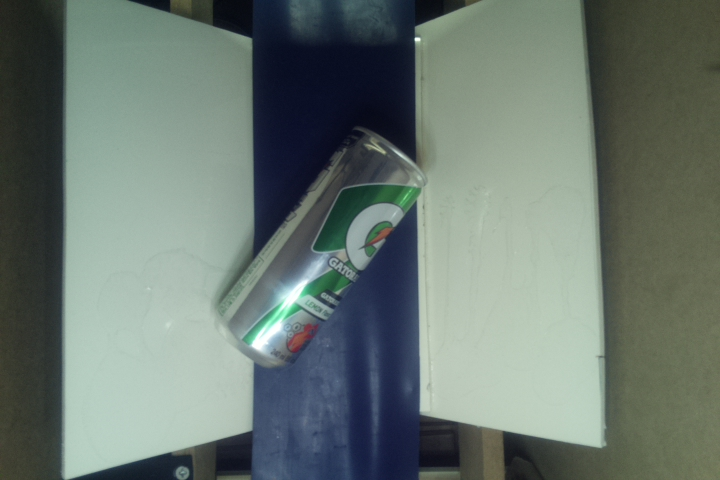can: (211, 121, 430, 369)
